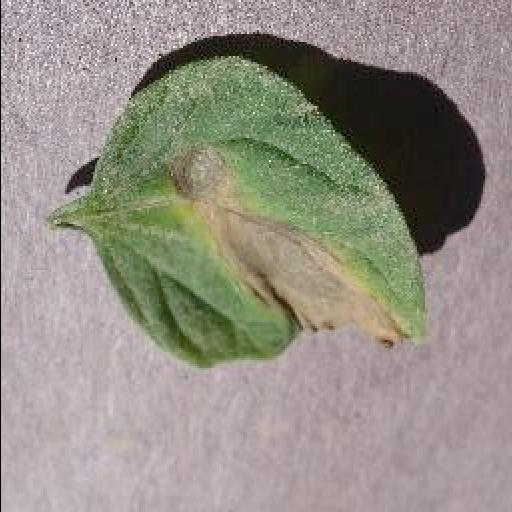disease_tomato: (84, 59, 426, 371)
